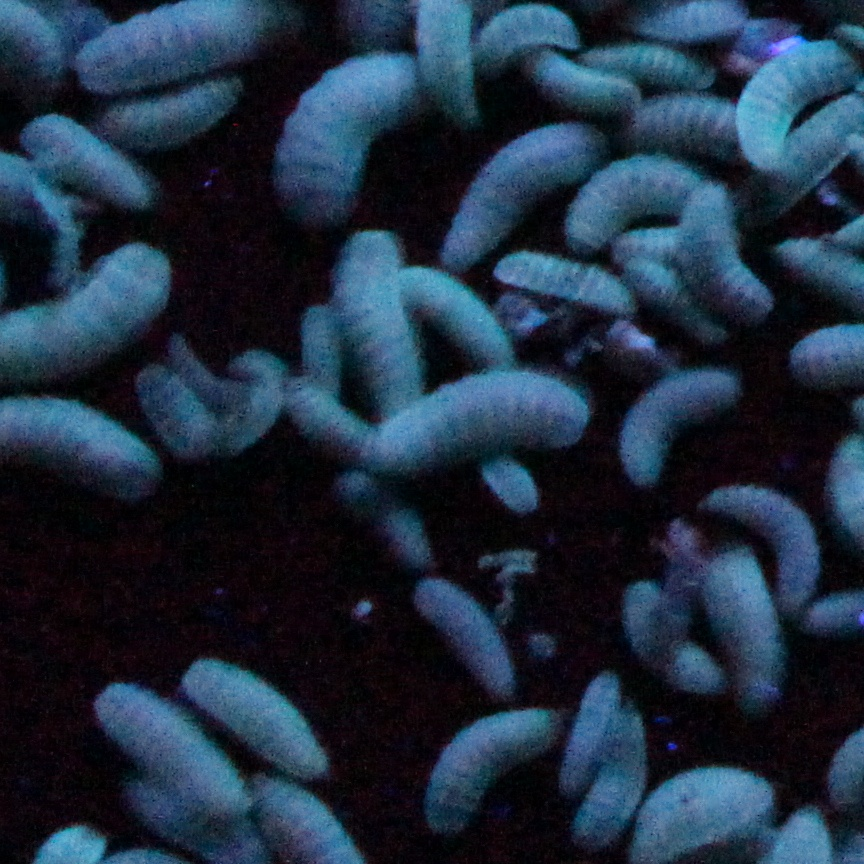larve: (271, 45, 422, 211), (90, 673, 253, 823), (448, 125, 609, 270), (362, 370, 595, 468), (422, 704, 564, 837), (184, 658, 336, 776), (698, 485, 826, 613), (676, 175, 779, 320), (402, 580, 522, 704), (624, 364, 734, 499), (337, 233, 422, 405), (740, 39, 855, 164), (703, 540, 781, 711), (571, 158, 702, 256), (24, 116, 153, 209), (103, 75, 252, 144), (579, 706, 648, 854), (491, 261, 641, 316), (341, 475, 433, 563), (533, 47, 643, 118), (471, 6, 591, 56), (584, 45, 724, 87)
